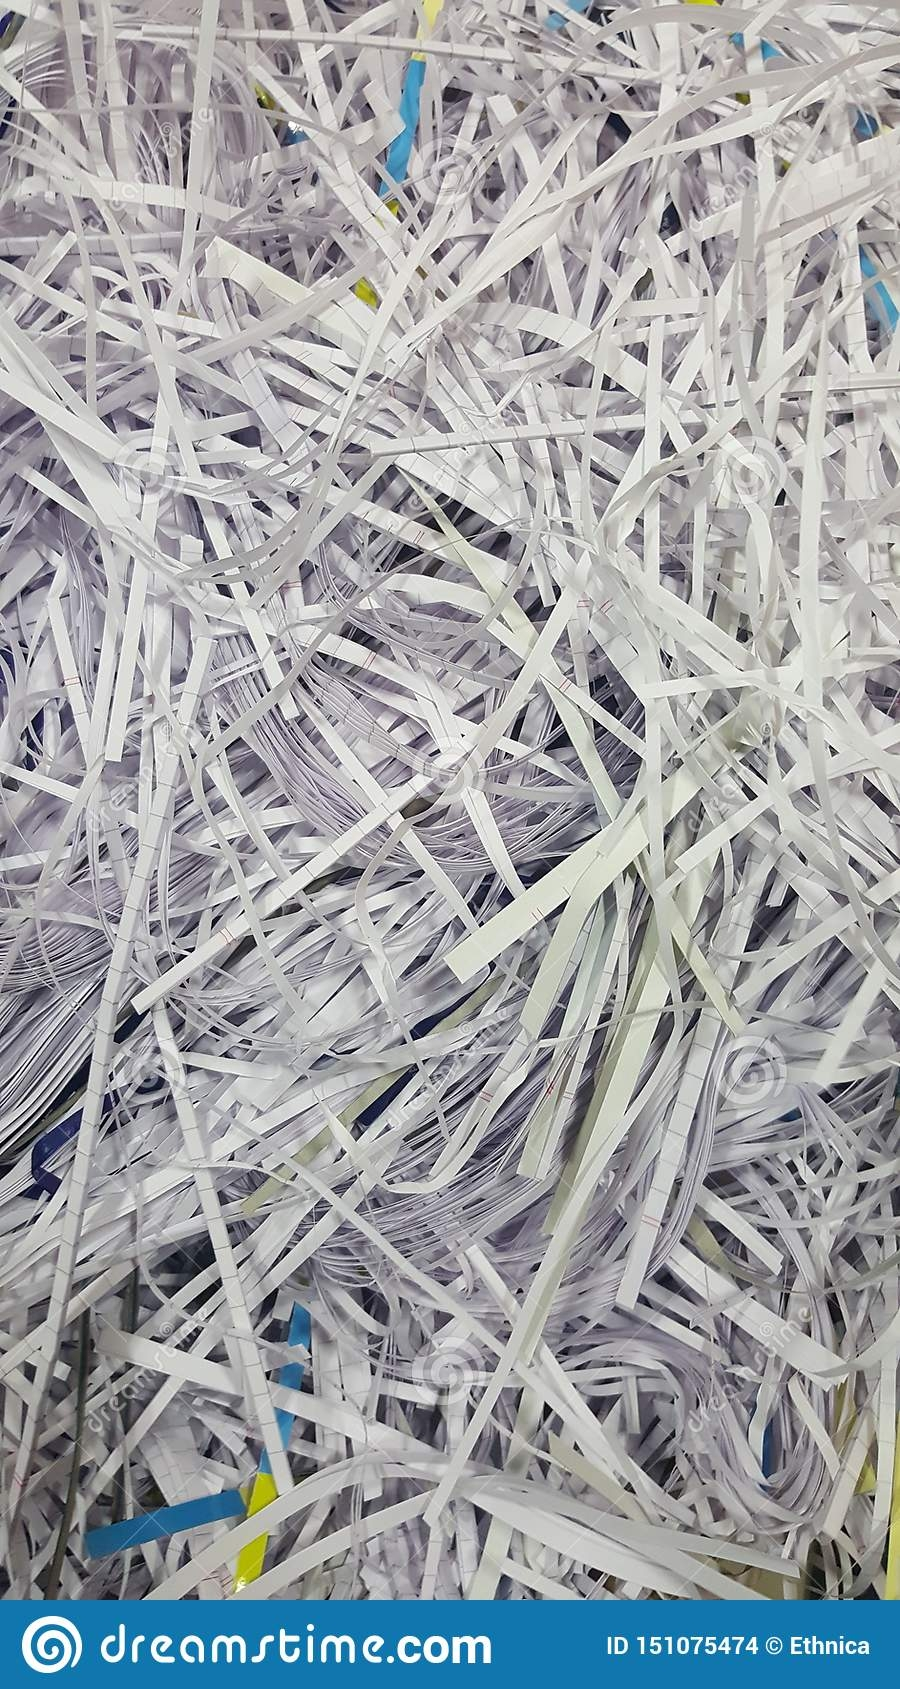paper: (29, 1325, 866, 1594), (303, 306, 614, 665), (11, 875, 273, 1297), (517, 1025, 883, 1327), (448, 668, 769, 1010), (3, 268, 296, 621), (222, 8, 560, 290), (571, 6, 883, 308), (632, 336, 864, 653), (208, 645, 478, 892), (1, 622, 197, 939), (259, 985, 485, 1232), (8, 6, 225, 237)
